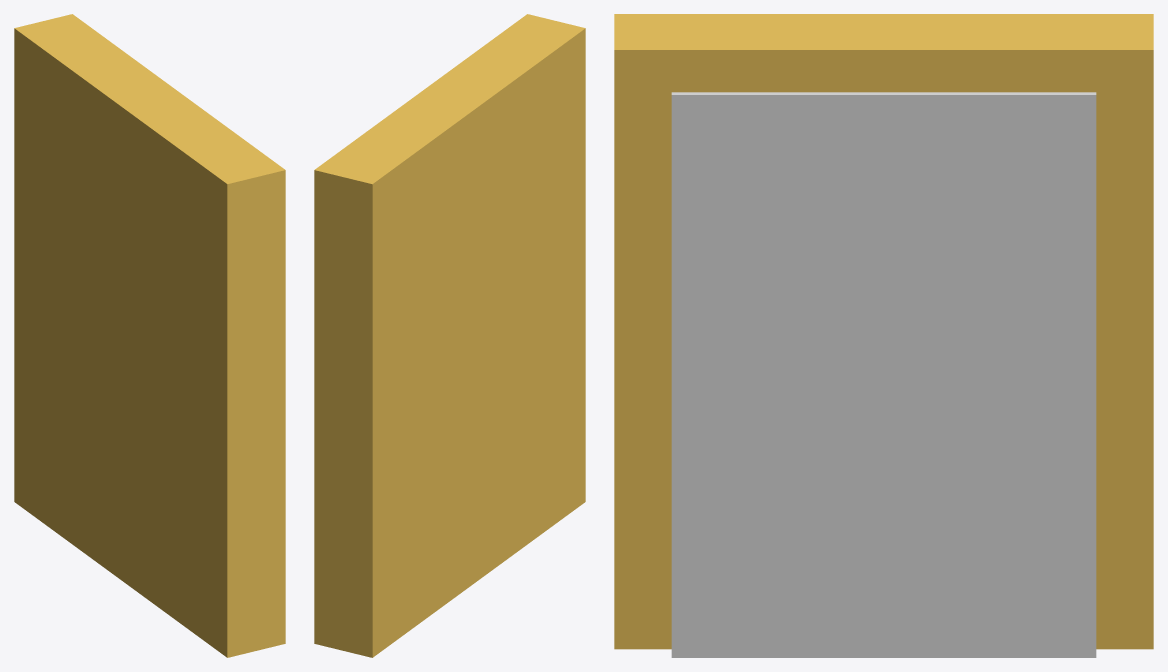
File: espelhofinal.glb
3 renders of one model, left to right at view 1: azimuth 30°, elevation 25°; view 2: azimuth 150°, elevation 25°; view 3: azimuth 270°, elevation 25°, orthographic. The views are drawn at different scales.
Parts seen in each view (by area): view 1: Cube.001; view 2: Cube.001; view 3: Cube, Cube.001.
Part boxes in pixels (x1,y1,x2,y2): Cube.001: (14, 14, 285, 657); Cube.001: (314, 14, 585, 657); Cube: (671, 92, 1096, 657); Cube.001: (614, 14, 1153, 649).
Size of the model in its own units: 0.6477 by 4.76 by 3.85.
